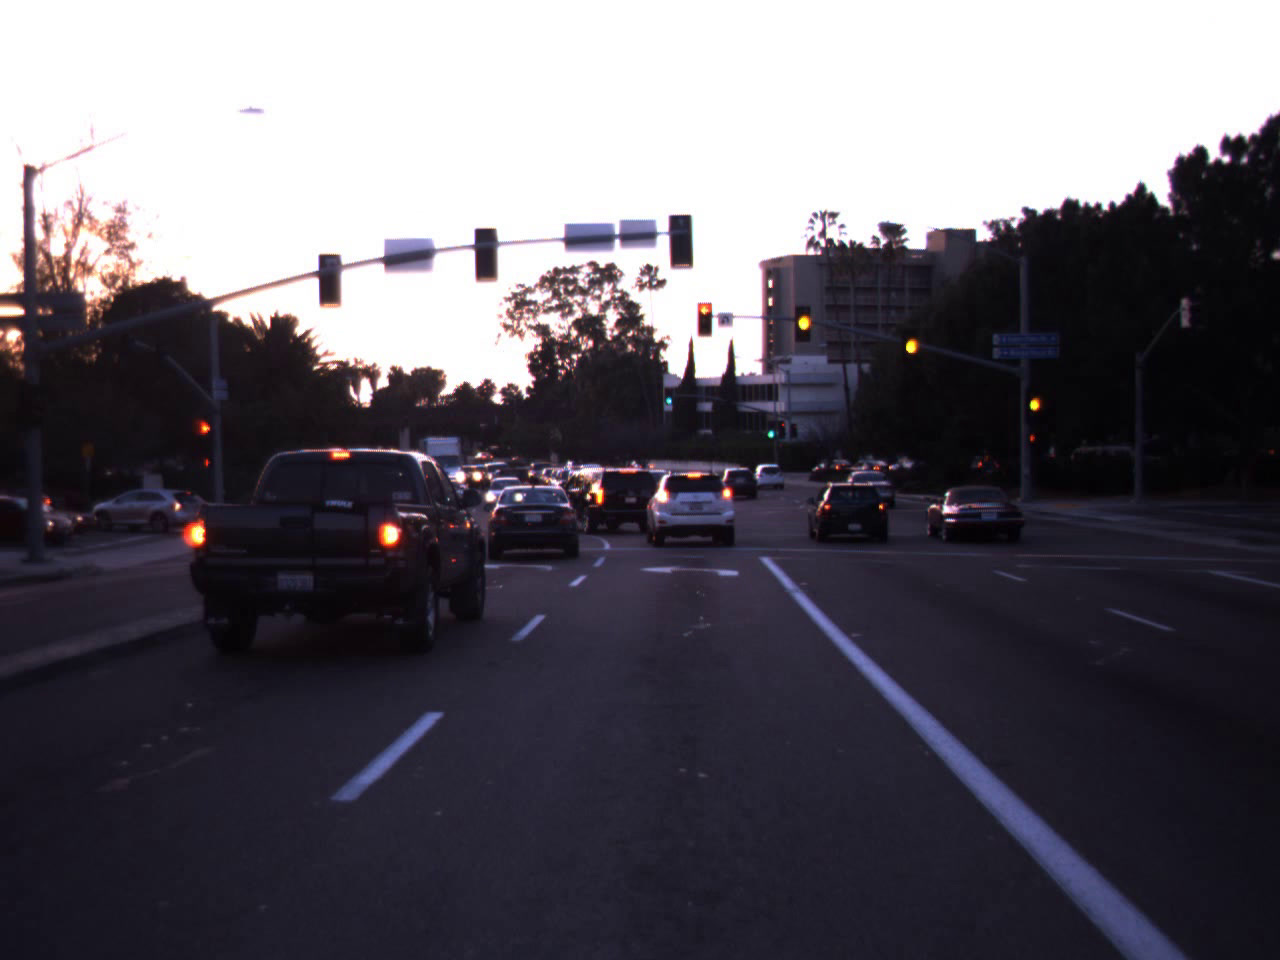go: (763, 414, 778, 439), (663, 377, 675, 407)
stop: (687, 299, 723, 344), (188, 416, 221, 465)
warning: (896, 319, 926, 368), (793, 291, 817, 349), (1023, 380, 1047, 425)
